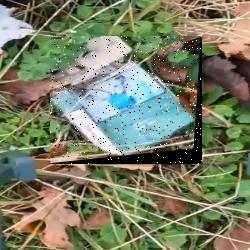restaffald: (50, 36, 202, 164)
